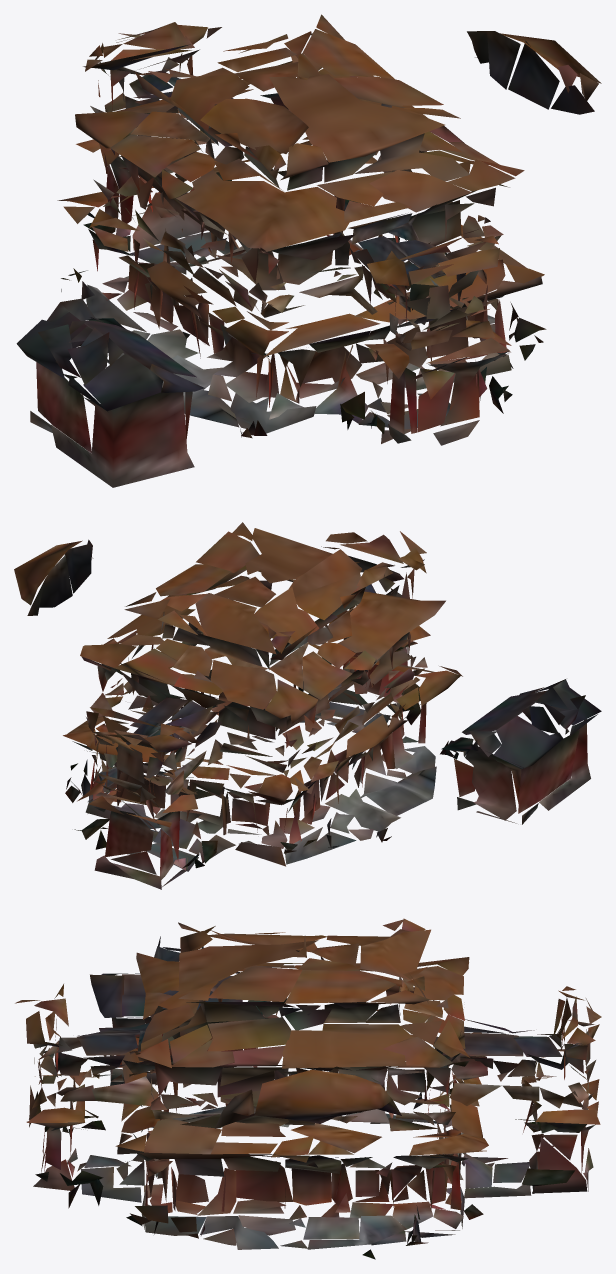
File: preview.glb
3 views of the same model, one above another, from view 1: azimuth 30°, elevation 25°; view 2: azimuth 150°, elevation 25°; view 3: azimuth 270°, elevation 25° (orthographic). The views are drawn at different scales.
Parts seen in each view (by area): view 1: yonghe/tripo_node_2865891e-e849-4786-ae23-ae4583ae8609; view 2: yonghe/tripo_node_2865891e-e849-4786-ae23-ae4583ae8609; view 3: yonghe/tripo_node_2865891e-e849-4786-ae23-ae4583ae8609.
Part boxes in pixels (<box>): yonghe/tripo_node_2865891e-e849-4786-ae23-ae4583ae8609: <box>16,14,601,487</box>; yonghe/tripo_node_2865891e-e849-4786-ae23-ae4583ae8609: <box>14,522,601,889</box>; yonghe/tripo_node_2865891e-e849-4786-ae23-ae4583ae8609: <box>15,918,601,1259</box>.
Size of the model in its own units: 0.6675 by 0.3002 by 0.6417.
1 material, 1 textured.
